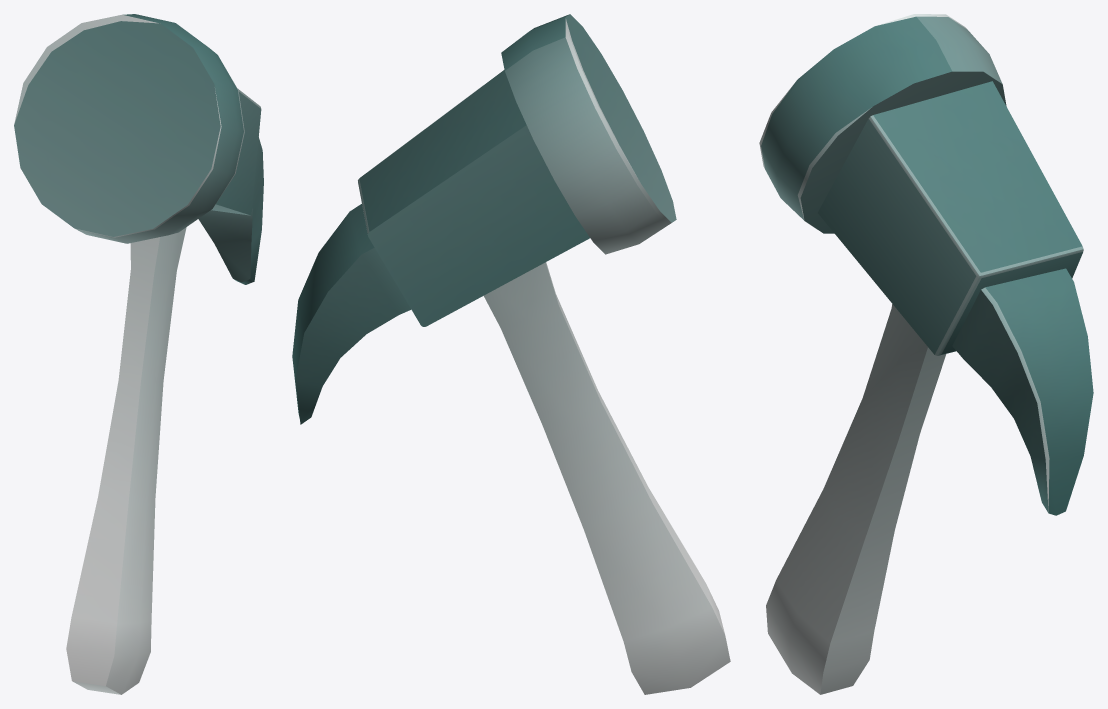
Rendered from Diligence_Hammer.fbx.
3 renders of one model, left to right at view 1: azimuth 30°, elevation 25°; view 2: azimuth 150°, elevation 25°; view 3: azimuth 270°, elevation 25°, orthographic. The views are drawn at different scales.
Parts seen in each view (by area): view 1: Diligence_Hammer; view 2: Diligence_Hammer; view 3: Diligence_Hammer.
Part boxes in pixels (x1,y1,x2,y2): Diligence_Hammer: [14, 14, 263, 694]; Diligence_Hammer: [292, 14, 730, 694]; Diligence_Hammer: [759, 14, 1093, 694].
Bounding box in the file's own units: 7.35 × 14.71 × 6.41.
